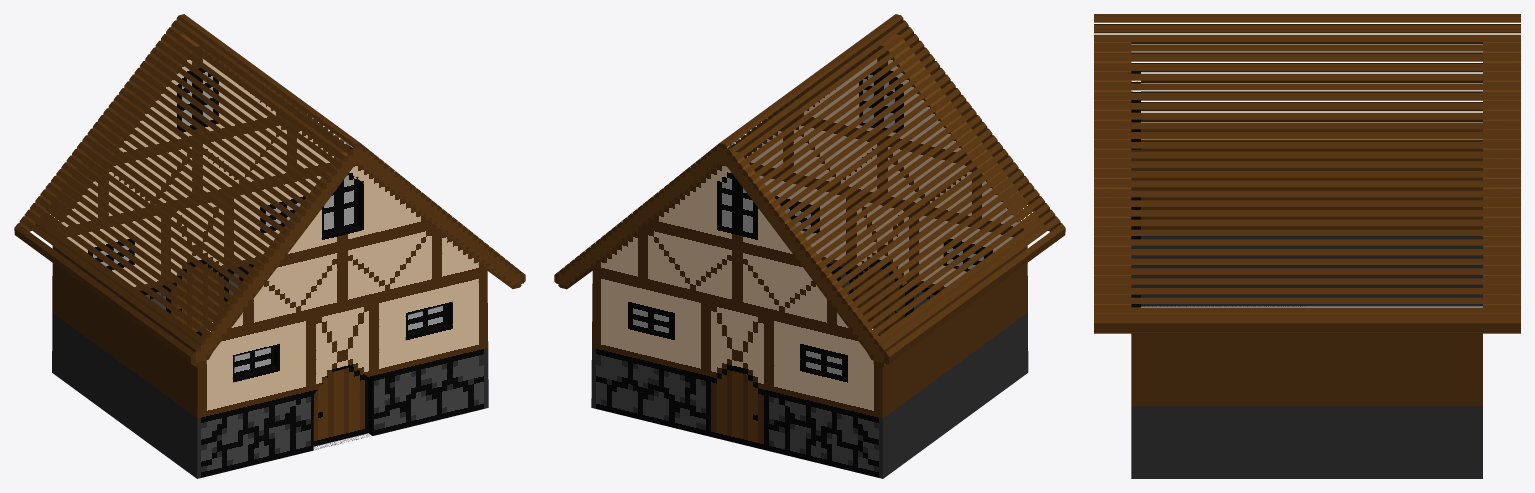
The model's file is House1.fbx.
3 views of the same model, side by side, from view 1: azimuth 30°, elevation 25°; view 2: azimuth 150°, elevation 25°; view 3: azimuth 270°, elevation 25° (orthographic). The views are drawn at different scales.
Visible parts, largest first — view 1: Plane; view 2: Plane; view 3: Plane.
Part boxes in pixels (x1,y1,x2,y2): Plane: (14,14,525,478); Plane: (554,14,1065,478); Plane: (1094,14,1520,478).
Size of the model in its own units: 200 by 177 by 182.
Materials: 1 (1 with a texture image).
